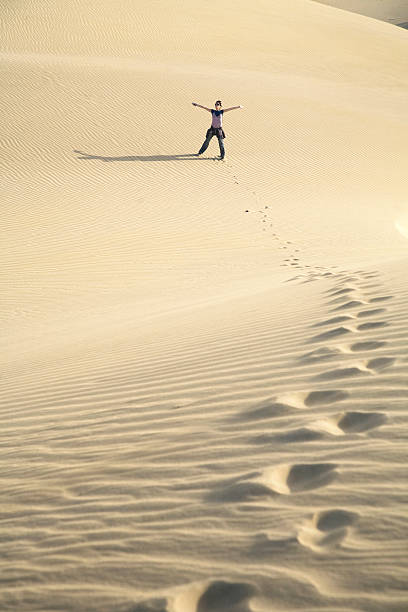human_foot_print: (211, 287, 394, 557), (253, 271, 400, 555), (301, 271, 396, 383), (302, 270, 394, 379), (241, 389, 348, 444), (206, 462, 337, 502), (253, 508, 359, 555), (131, 578, 256, 611), (239, 389, 348, 420), (297, 509, 358, 550), (259, 462, 337, 494), (311, 410, 387, 435), (315, 356, 395, 379), (334, 411, 386, 433), (309, 325, 354, 342), (312, 314, 354, 327), (350, 340, 387, 352), (332, 299, 363, 311), (357, 308, 385, 318), (357, 321, 388, 330)
